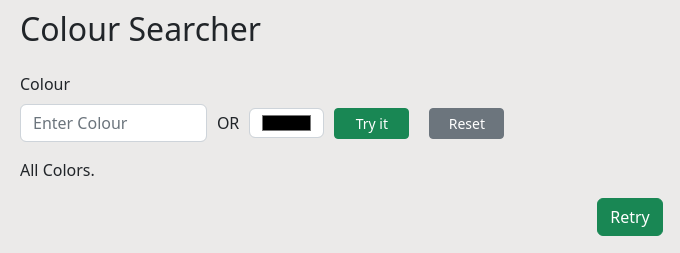
Test: Colour Searcher › searching the colors from input and color picker
The image size is (680, 253).
Type "#894585" into the field with test id "color__search" at (114,123), box left=20, top=104, right=207, bottom=142
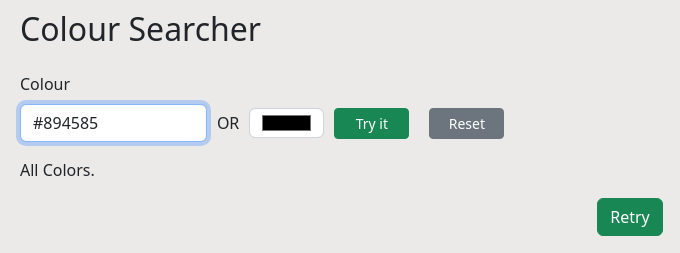
Press Enter in the field with test id "color__search", box left=20, top=104, right=207, bottom=142
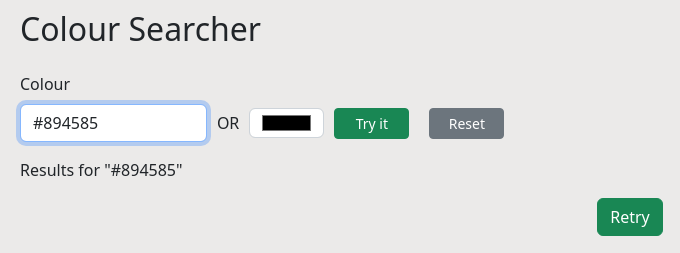
Expected: the text "Results for \"#894585\"" is shown, left=20, top=159, right=182, bottom=181
Replace the text in the field with test id "color__search" with "rgb(168,255,4)" at (114,123), box left=20, top=104, right=207, bottom=142
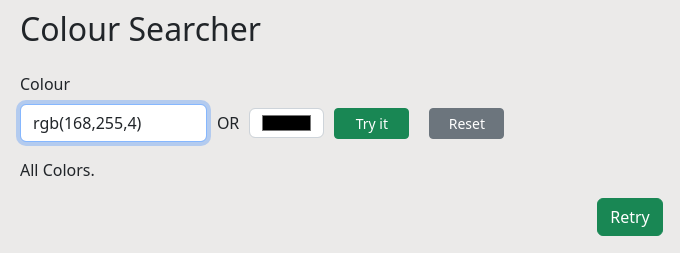
Press Enter in the field with test id "color__search", box left=20, top=104, right=207, bottom=142
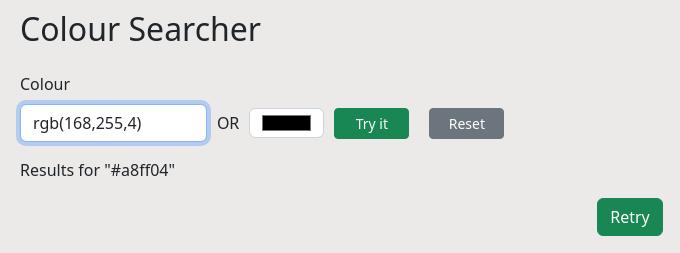
Expected: the text "Results for \"#a8ff04\"" is shown, left=20, top=159, right=175, bottom=181
Clear the field with test id "color__search" at (114,123), box left=20, top=104, right=207, bottom=142
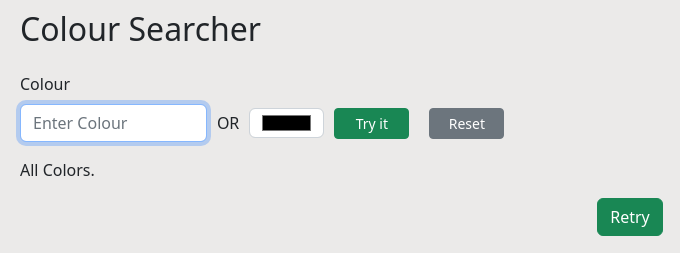
Click the button with test id "try__btn" at (372,124), box left=334, top=108, right=409, bottom=139
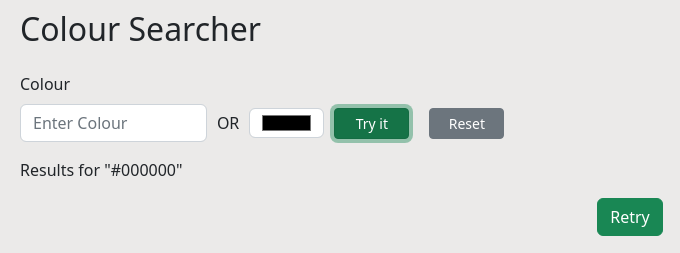
Expected: the text "Results for \"#000000\"" is shown, left=20, top=159, right=182, bottom=181
